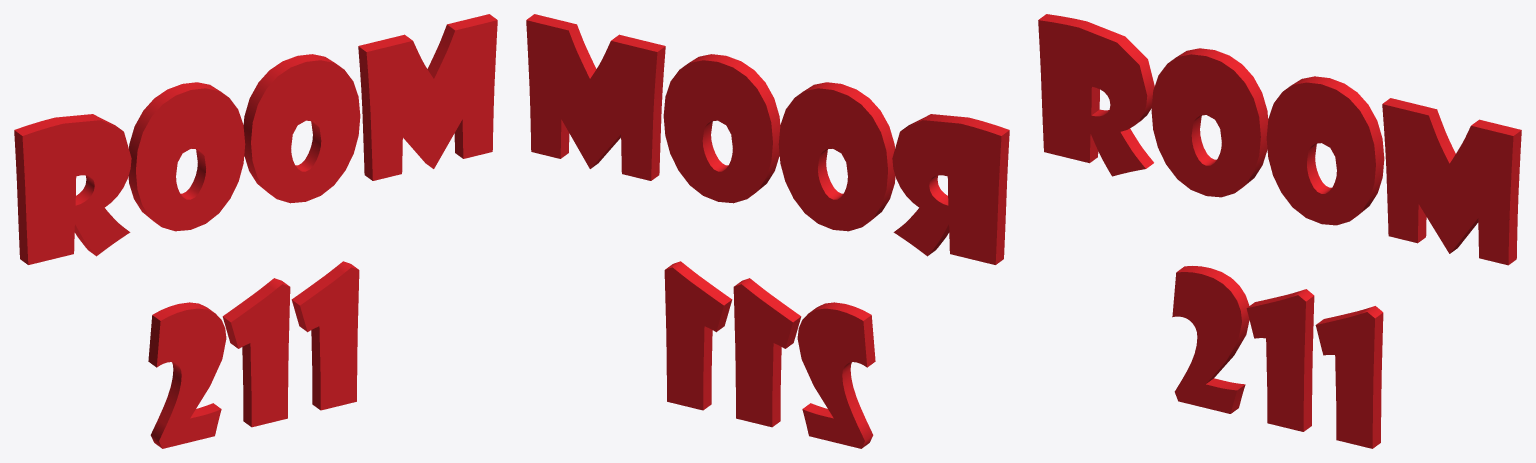
Rendered from asset.glb.
3 renders of one model, left to right at view 1: azimuth 30°, elevation 25°; view 2: azimuth 150°, elevation 25°; view 3: azimuth 330°, elevation 25°, orthographic.
Parts seen in each view (by area): view 1: mesh_id75, mesh_id76; view 2: mesh_id75, mesh_id76; view 3: mesh_id75, mesh_id76.
Part boxes in pixels (bbox=[...]): mesh_id75: bbox=[14, 14, 497, 264]; mesh_id76: bbox=[148, 261, 359, 448]; mesh_id75: bbox=[526, 14, 1009, 264]; mesh_id76: bbox=[664, 261, 875, 448]; mesh_id75: bbox=[1038, 14, 1521, 265]; mesh_id76: bbox=[1172, 266, 1383, 448].
Bounding box in the file's own units: 0.494 × 0.3498 × 0.015.
2 materials, 2 textured.
